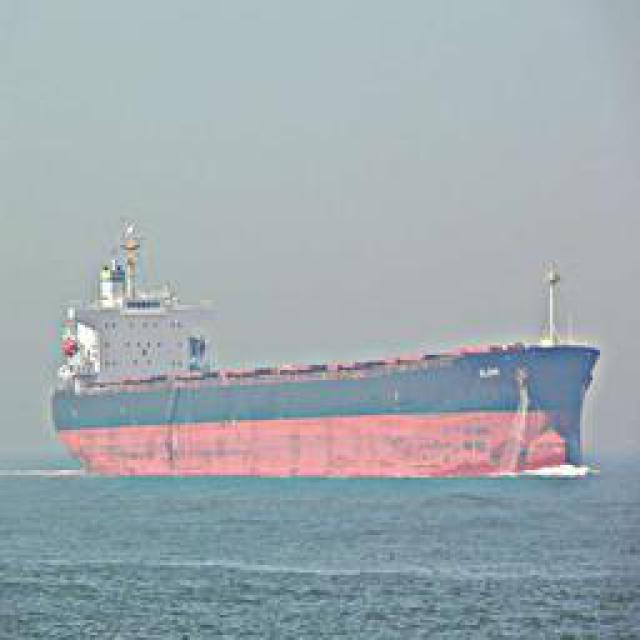Ship: (46, 334, 606, 487)
